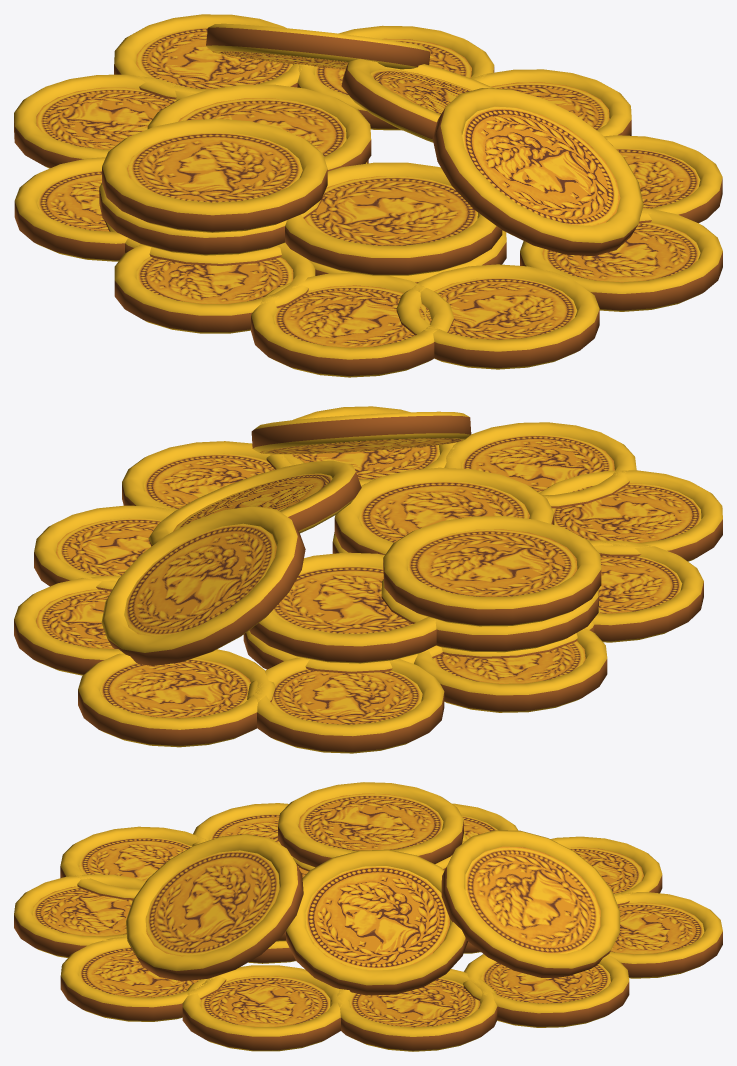
File: item_6coinmid.glb
3 renders of one model, top to bottom at view 1: azimuth 30°, elevation 25°; view 2: azimuth 150°, elevation 25°; view 3: azimuth 270°, elevation 25°, orthographic. The views are drawn at different scales.
Parts seen in each view (by area): view 1: 6coinmid; view 2: 6coinmid; view 3: 6coinmid.
Boxes of the visible parts, x1=… form: 6coinmid: x1=14, y1=14, x2=722, y2=377; 6coinmid: x1=14, y1=406, x2=722, y2=753; 6coinmid: x1=14, y1=782, x2=722, y2=1051.
Size of the model in its own units: 0.0826 by 0.0184 by 0.1063.
Materials: 1 (1 with a texture image).
